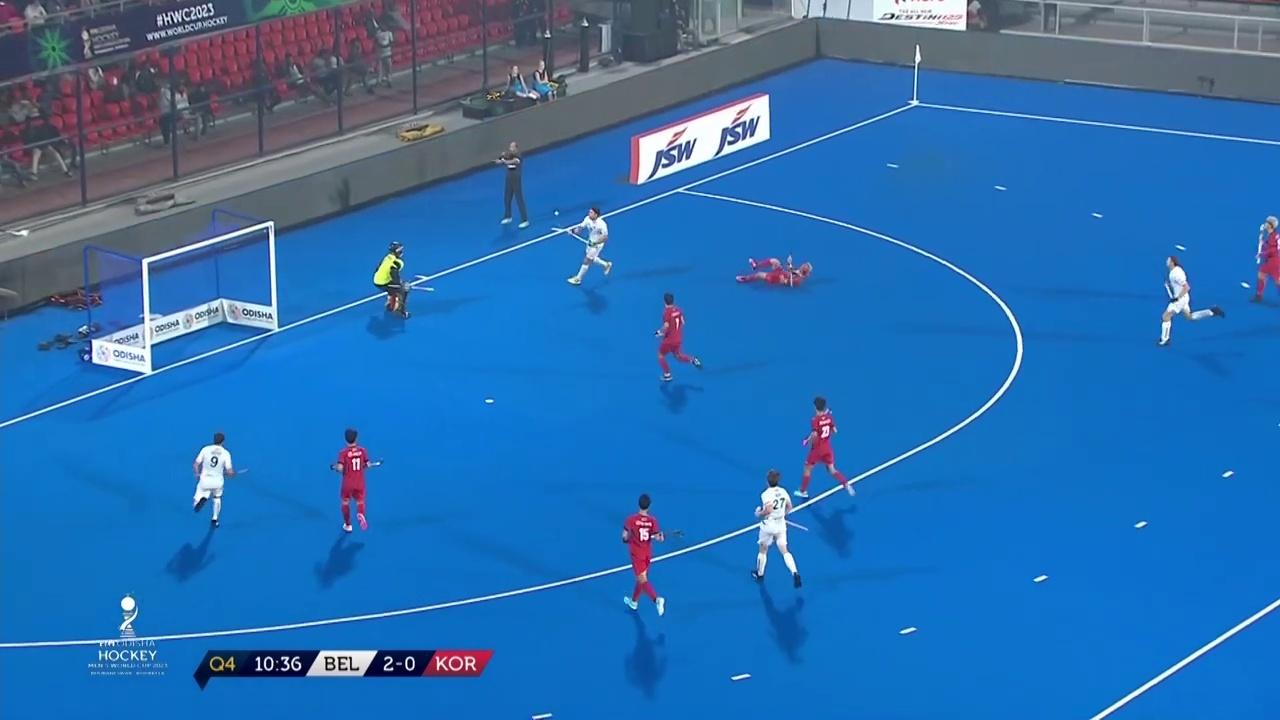ball: (550, 209, 561, 219)
